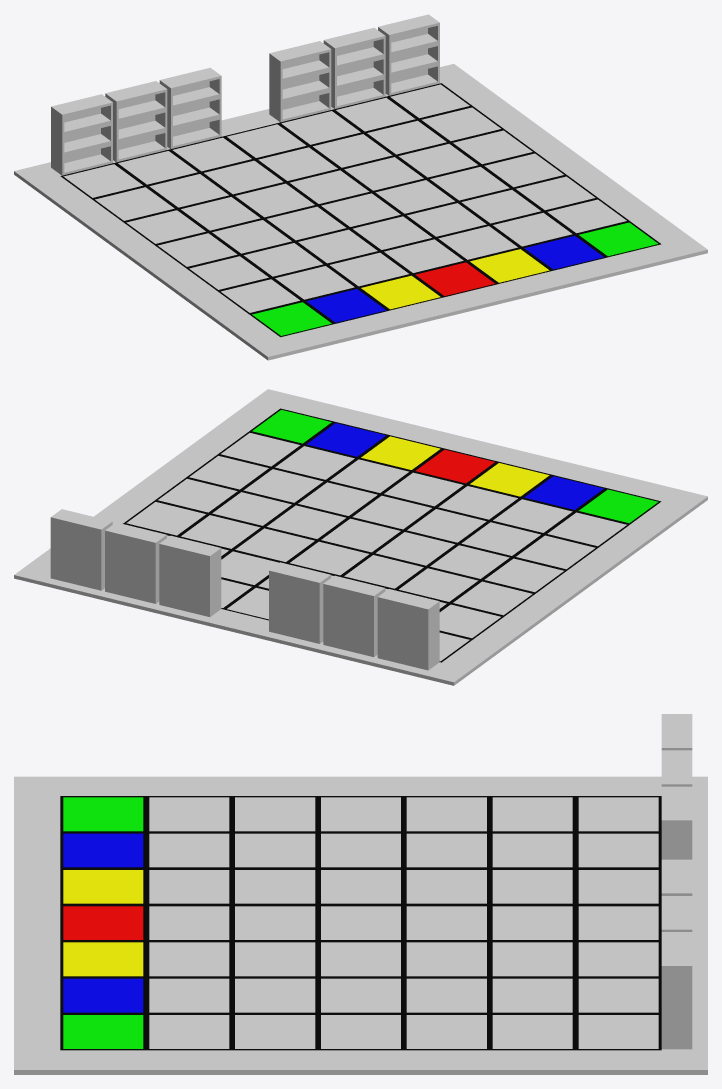
The model's file is arenaieee.dae.
3 views of the same model, one above another, from view 1: azimuth 30°, elevation 25°; view 2: azimuth 150°, elevation 25°; view 3: azimuth 270°, elevation 25° (orthographic). The views are drawn at different scales.
Parts seen in each view (by area): view 1: base, Cube, prat_dir, prat_esq, Cores; view 2: base, prat_dir, prat_esq, Cube, Cores; view 3: base, Cube, Cores, prat_dir, prat_esq.
Boxes of the visible parts, x1,y1,x2,y2 form: base: [14, 64, 707, 360]; Cube: [60, 83, 661, 336]; prat_dir: [269, 14, 439, 122]; prat_esq: [51, 67, 221, 175]; Cores: [252, 222, 658, 335]; base: [14, 389, 707, 685]; prat_dir: [50, 509, 221, 616]; prat_esq: [269, 562, 439, 670]; Cube: [123, 408, 661, 662]; Cores: [252, 409, 658, 523]; base: [14, 776, 707, 1074]; Cube: [60, 796, 661, 1050]; Cores: [63, 797, 143, 1048]; prat_dir: [661, 859, 692, 1049]; prat_esq: [661, 714, 692, 859].
Bounding box in the file's own units: 2.6 × 2.6 × 0.365.
